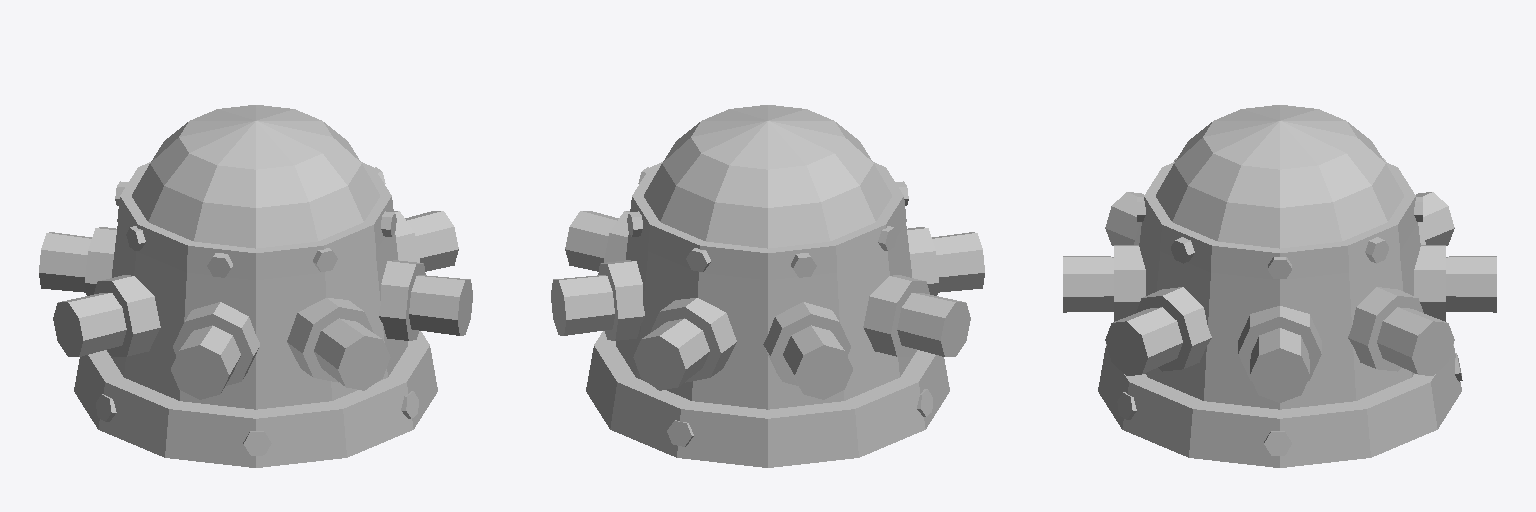
File: tackshooter.obj
3 renders of one model, left to right at view 1: azimuth 30°, elevation 25°; view 2: azimuth 150°, elevation 25°; view 3: azimuth 270°, elevation 25°, orthographic.
Visible parts, largest first — view 1: FlatSkin_TackShooter_TackShooter; view 2: FlatSkin_TackShooter_TackShooter; view 3: FlatSkin_TackShooter_TackShooter.
Boxes of the visible parts, <box> form: FlatSkin_TackShooter_TackShooter: <box>39,105,472,467</box>; FlatSkin_TackShooter_TackShooter: <box>551,105,984,467</box>; FlatSkin_TackShooter_TackShooter: <box>1063,105,1496,467</box>.
Bounding box in the file's own units: 18.82 × 12.95 × 18.82.